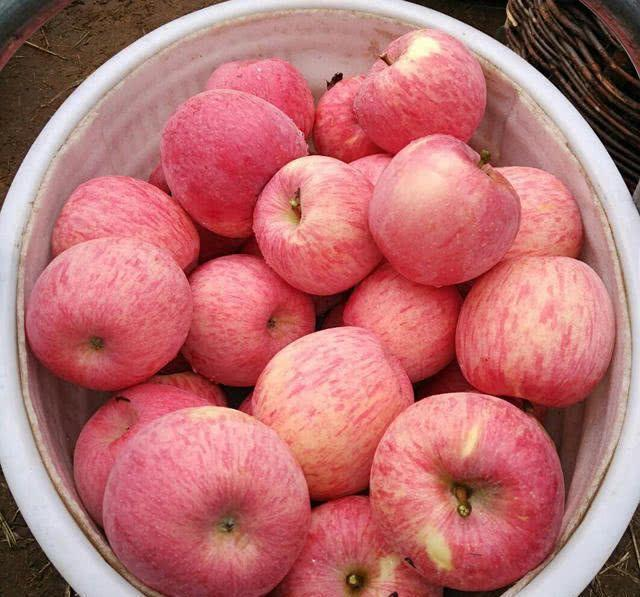apple: (370, 389, 568, 591), (101, 406, 310, 597), (248, 323, 412, 497), (24, 233, 191, 392), (453, 252, 617, 408), (369, 136, 521, 286), (162, 89, 305, 239), (72, 383, 216, 525), (251, 152, 386, 297), (180, 255, 318, 388), (286, 497, 449, 597), (361, 29, 488, 157), (50, 169, 200, 273), (339, 259, 463, 383), (493, 165, 584, 261)
